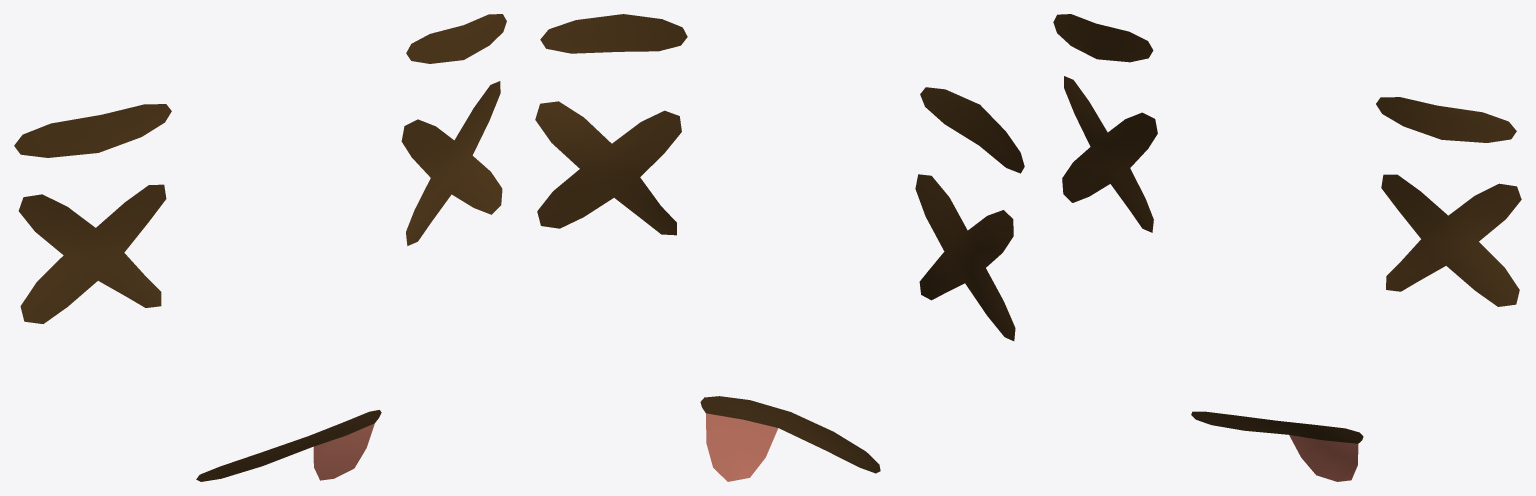
Rendered from Face Dead Ruj.fbx.
3 views of the same model, side by side, from view 1: azimuth 30°, elevation 25°; view 2: azimuth 150°, elevation 25°; view 3: azimuth 330°, elevation 25° (orthographic). The views are drawn at different scales.
Parts seen in each view (by area): view 1: Plane.002; view 2: Plane.002; view 3: Plane.002.
Part boxes in pixels (x1,y1,x2,y2): Plane.002: (14,14,506,481); Plane.002: (535,14,1024,481); Plane.002: (1053,14,1521,481).
Size of the model in its own units: 32.18 by 27.32 by 3.73.
Materials: 1 (1 with a texture image).
